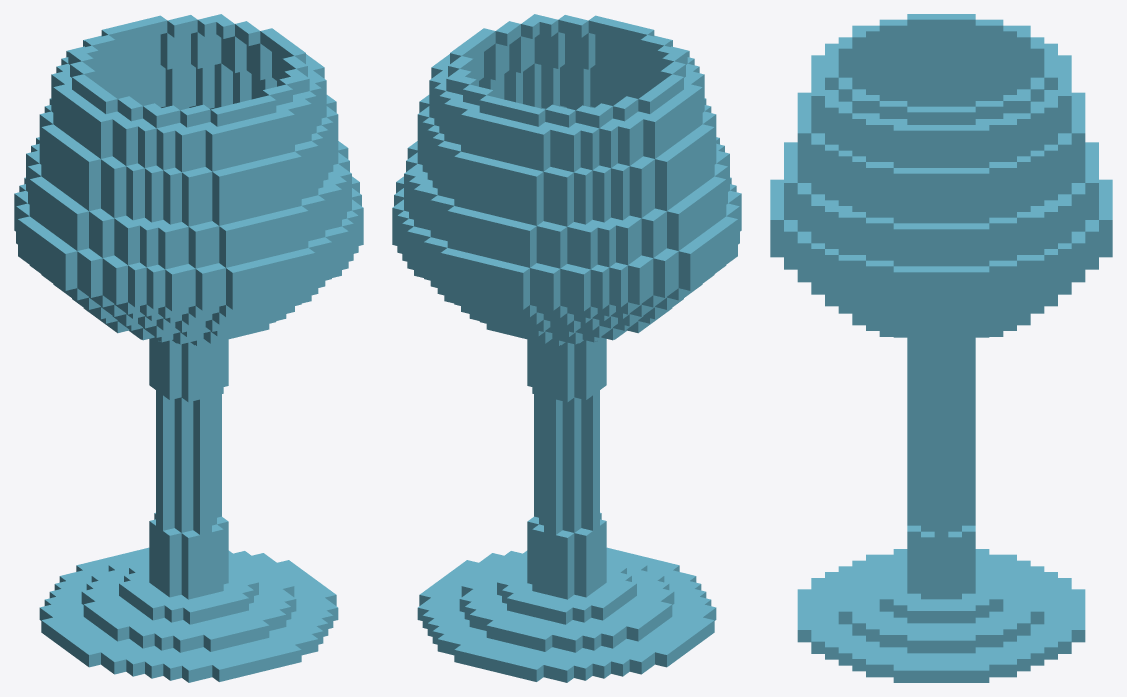
Rendered from WineGlass.obj.
3 views of the same model, side by side, from view 1: azimuth 30°, elevation 25°; view 2: azimuth 150°, elevation 25°; view 3: azimuth 270°, elevation 25° (orthographic).
Size of the model in its own units: 25 by 45 by 25.
Materials: 1 (1 with a texture image).
